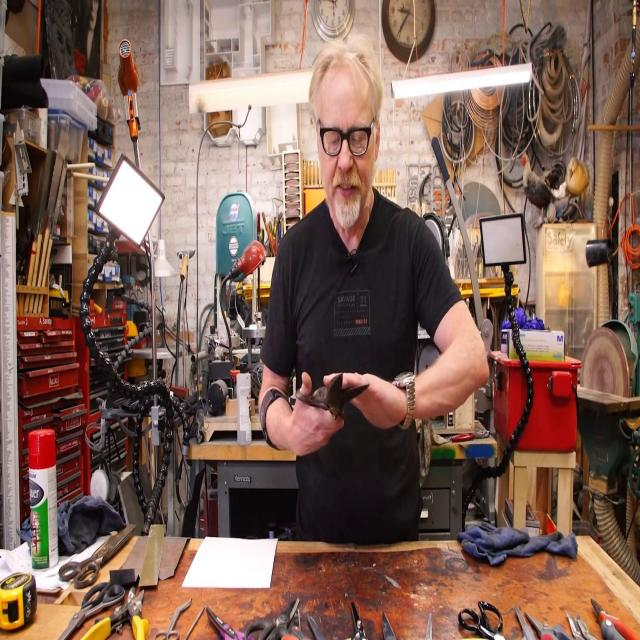scissor: (58, 522, 137, 591), (59, 579, 124, 640), (297, 373, 370, 427), (247, 600, 298, 640), (458, 601, 505, 640), (206, 607, 257, 640), (526, 606, 573, 640), (156, 598, 192, 640), (283, 609, 311, 640), (516, 598, 535, 640)
